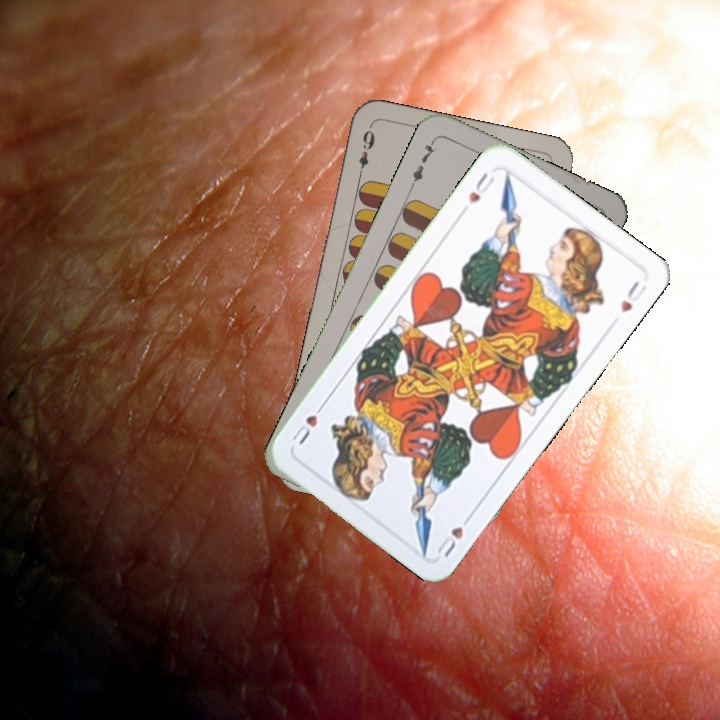E7: (406, 135, 440, 191)
E9: (354, 123, 378, 181)
HU: (433, 509, 476, 561), (464, 168, 497, 206)
